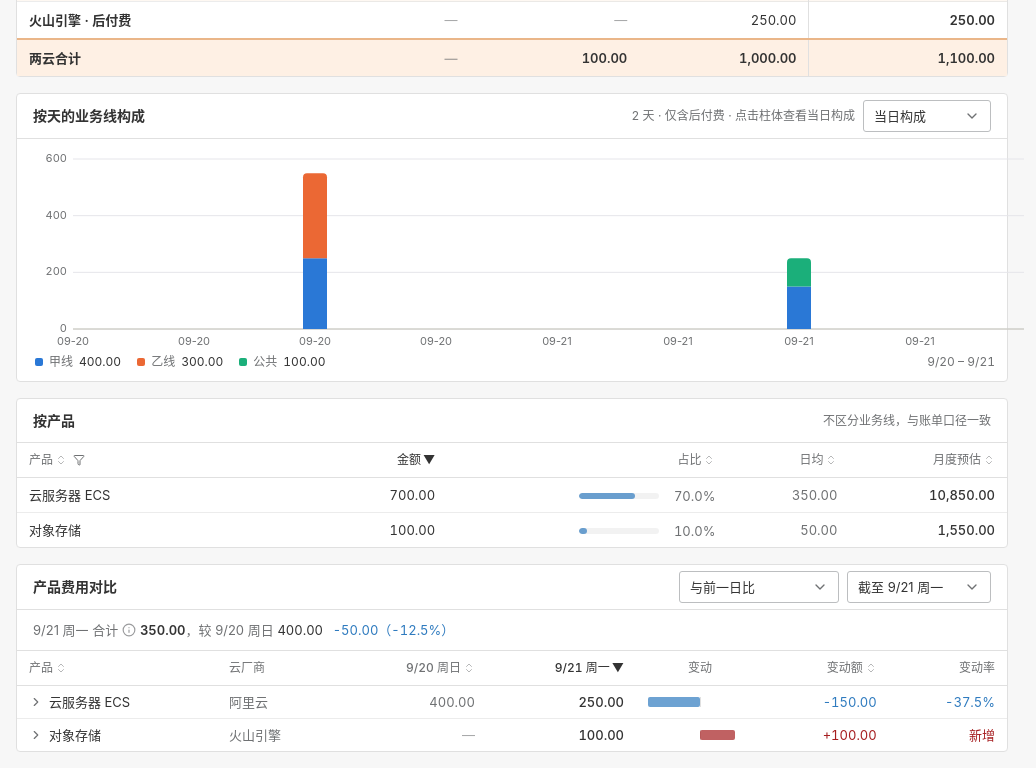
Test case: 费用页 › 分析视图的按产品与账单明细一致：点列头排序、在产品表头筛选
(page scrolled)
Expected: the text "70.0%" is shown, [668,486,716,506]
排序在页面上做：默认按金额从大到小，再点一次从小到大
Click the button "金额 ▼" at [416, 460], box [397,451,435,469]
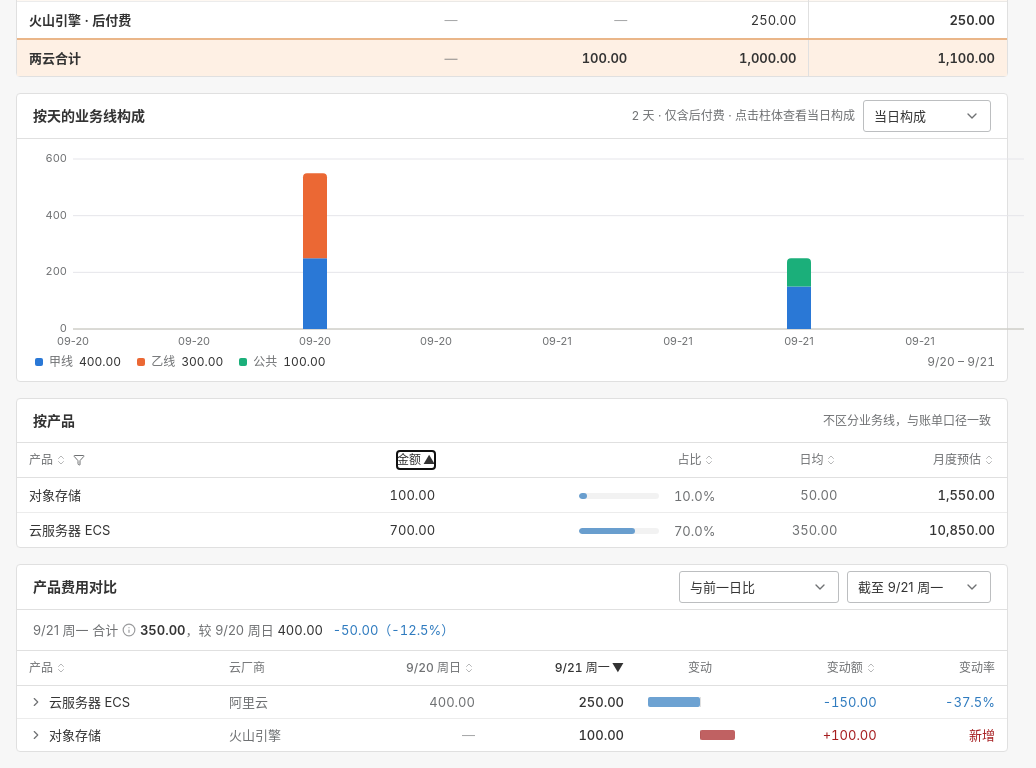
产品筛选写进 URL，与账单视图同一套条件，整个分析视图都只看它
Click the button named "按产品筛选" at [79, 460], box [73,454,85,466]
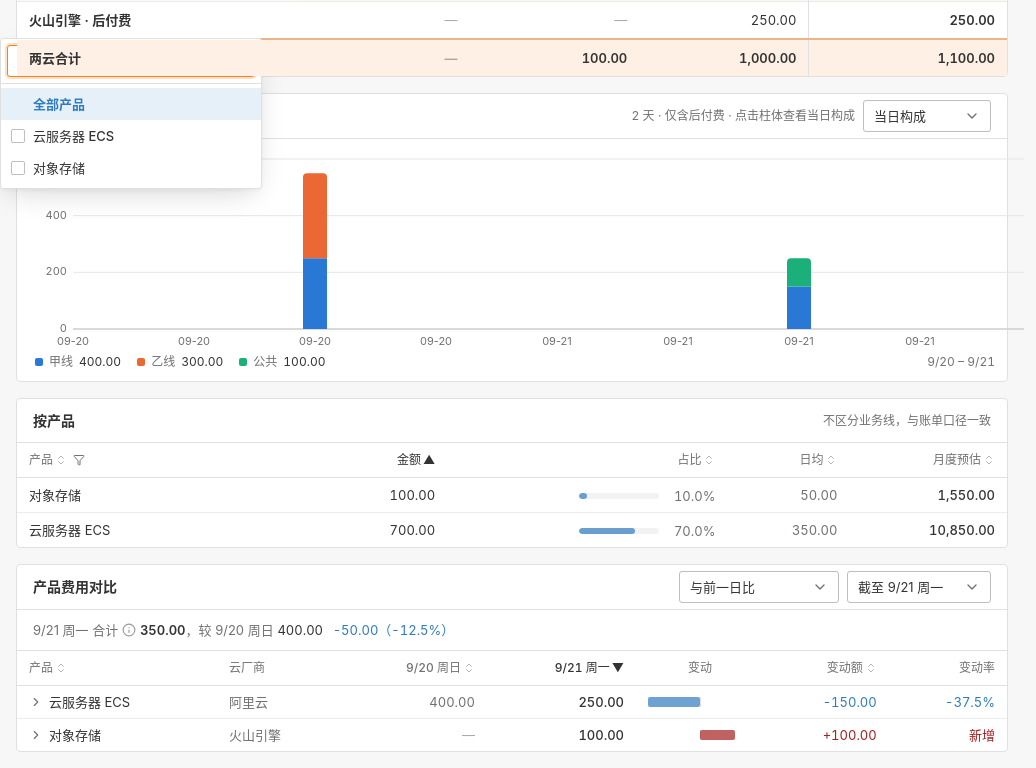
Click the option "对象存储" at [48, 168], box [11,160,85,176]
(page scrolled)
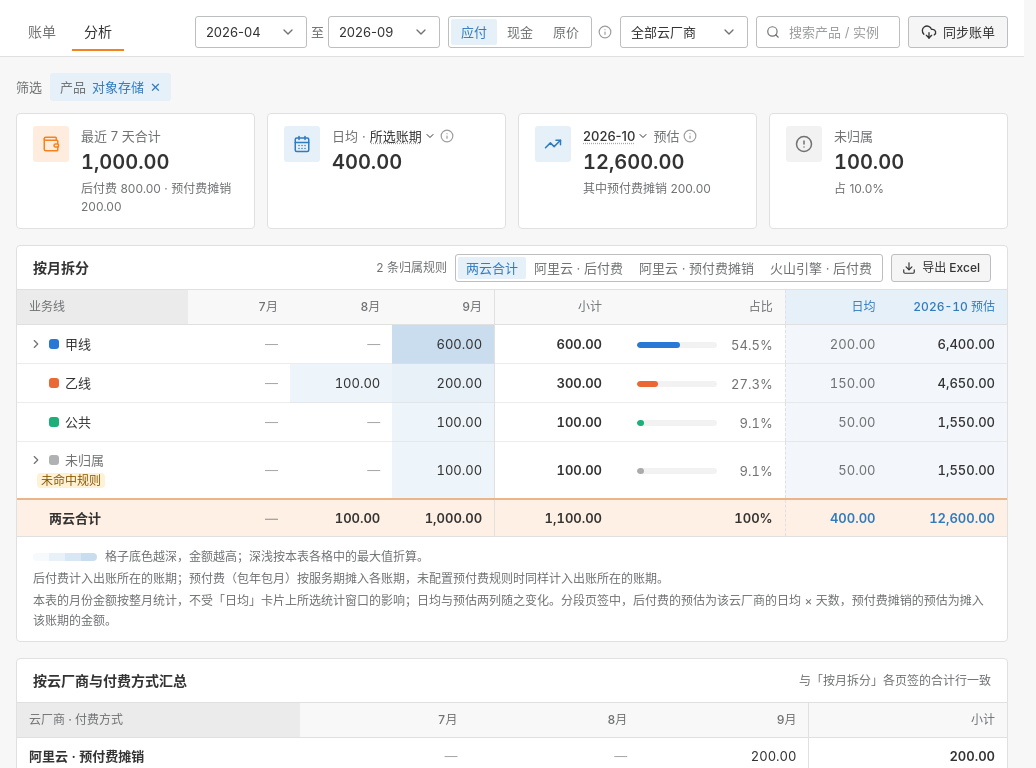
Now the text "对象存储" is shown, box [92,77,144,97]
